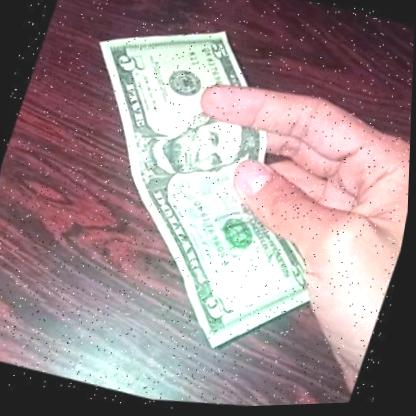five-front: (0, 0, 405, 400)
